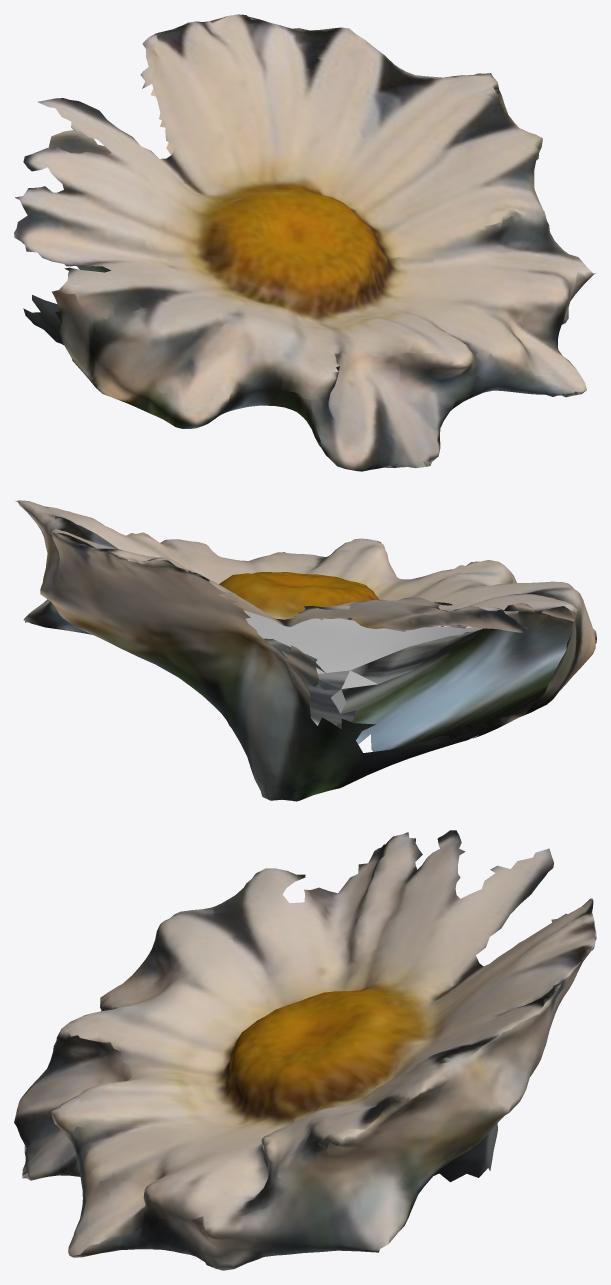
The picture shows the model from 3 angles, top to bottom: view 1: azimuth 30°, elevation 25°; view 2: azimuth 150°, elevation 25°; view 3: azimuth 270°, elevation 25°; orthographic projection. The views are drawn at different scales.
Visible parts, largest first — view 1: cf1d0f2e; view 2: cf1d0f2e; view 3: cf1d0f2e.
Part boxes in pixels (x1=…): cf1d0f2e: x1=14, y1=14, x2=595, y2=471; cf1d0f2e: x1=15, y1=500, x2=596, y2=801; cf1d0f2e: x1=14, y1=830, x2=596, y2=1270.
Size of the model in its own units: 0.0781 by 0.0387 by 0.0694.
2 materials, 1 textured.
